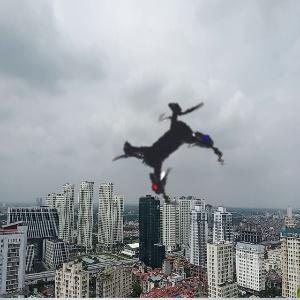drone: (76, 49, 271, 244)
